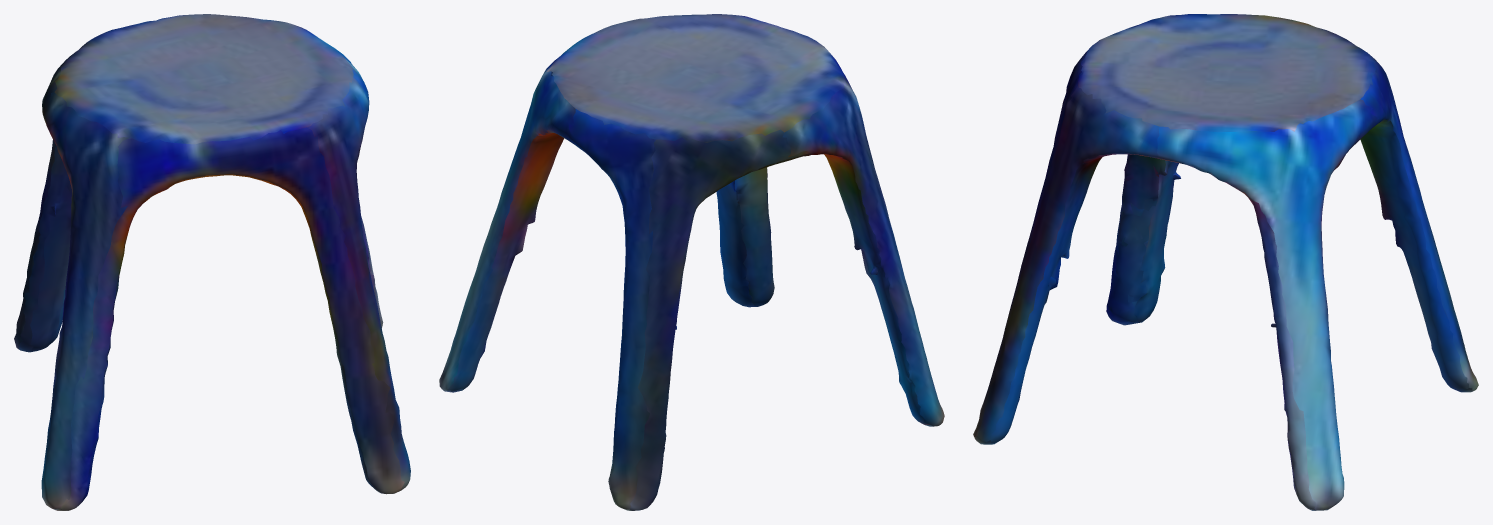
The picture shows the model from 3 angles, left to right: view 1: azimuth 30°, elevation 25°; view 2: azimuth 150°, elevation 25°; view 3: azimuth 270°, elevation 25°; orthographic projection. The views are drawn at different scales.
Visible parts, largest first — view 1: world; view 2: world; view 3: world.
Part boxes in pixels (<box>): world: <box>14,14,410,510</box>; world: <box>439,14,944,510</box>; world: <box>973,14,1478,510</box>.
Bounding box in the file's own units: 0.2852 × 0.2257 × 0.2964.
Materials: 1 (1 with a texture image).
